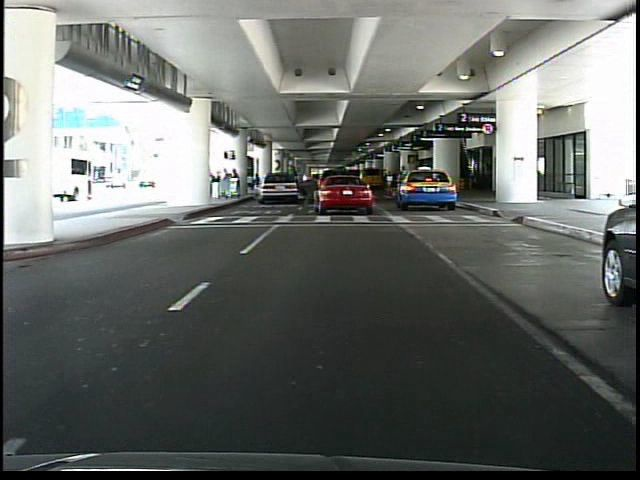person: (289, 165, 303, 202)
